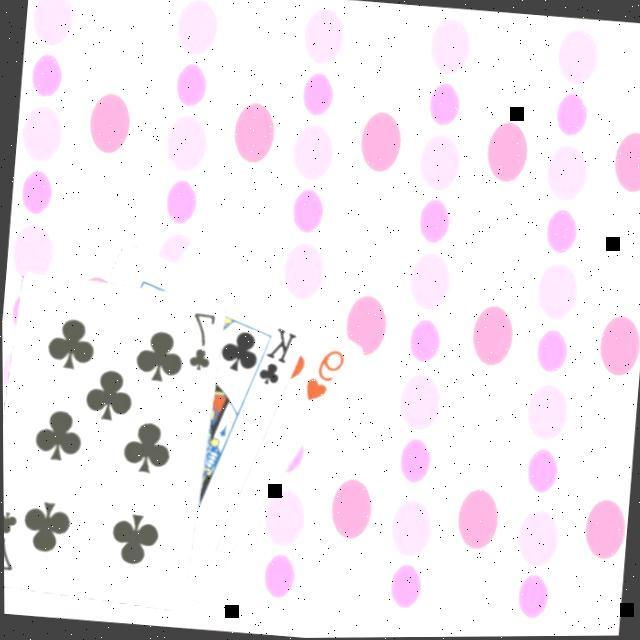7C: (185, 306, 219, 372), (3, 504, 21, 572)
9H: (301, 341, 348, 404)
KC: (244, 319, 300, 389)
